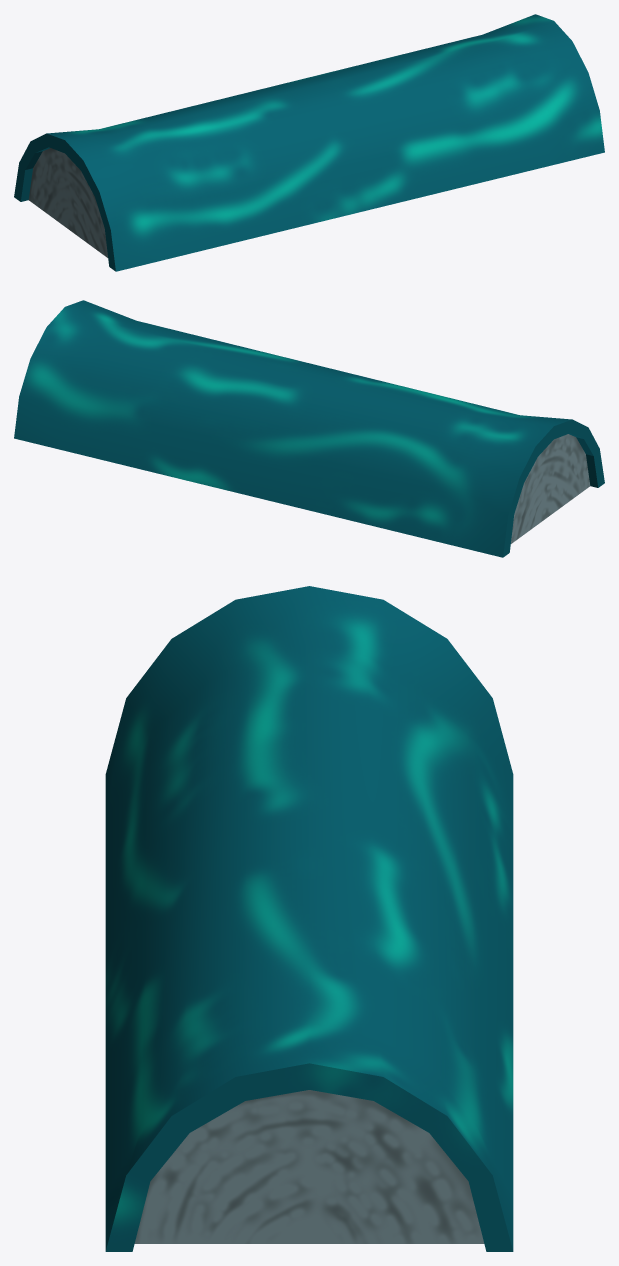
File: TroncoLargo FBX.fbx
3 renders of one model, top to bottom at view 1: azimuth 30°, elevation 25°; view 2: azimuth 150°, elevation 25°; view 3: azimuth 270°, elevation 25°, orthographic. The views are drawn at different scales.
Visible parts, largest first — view 1: TroncoLargo; view 2: TroncoLargo; view 3: TroncoLargo.
Part boxes in pixels (bbox=[...]): TroncoLargo: bbox=[14, 14, 604, 271]; TroncoLargo: bbox=[14, 300, 604, 557]; TroncoLargo: bbox=[105, 586, 513, 1251].
Size of the model in its own units: 1.99 by 0.3674 by 0.7199.
